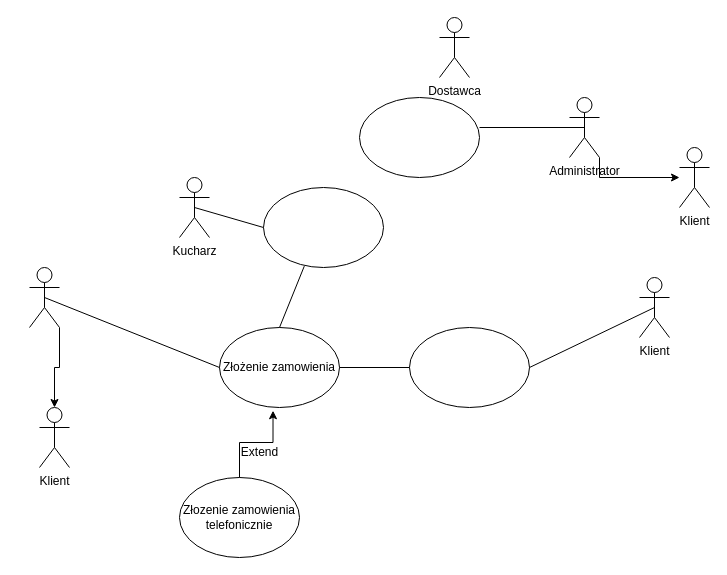
The diagram is 727 pixels wide and 575 high, and some of its shapes have lost their labels. Each missing label, with the centre of its shape:
"Administruj systemem" goes at (419,137).
"Ogladanie menu" goes at (469,367).
"Pracownik" goes at (44,297).
"Przygotowywanie zamowienia" goes at (323,227).
